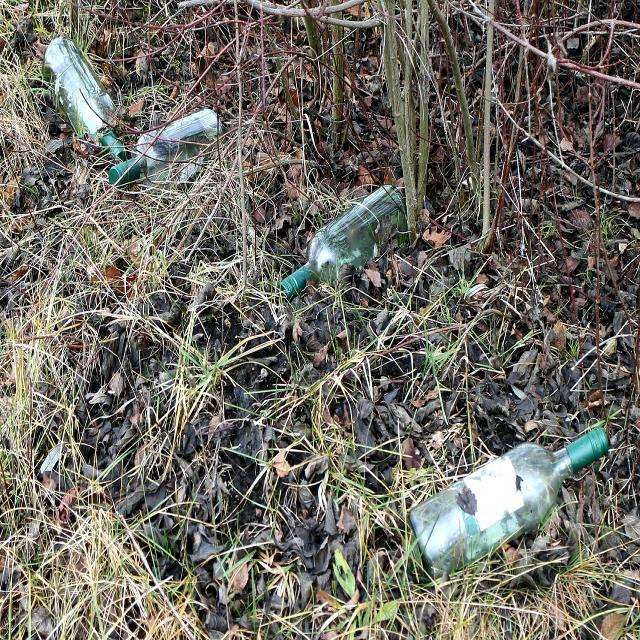Glass: (406, 425, 610, 587), (277, 183, 409, 300), (40, 35, 128, 163), (108, 109, 225, 189)
